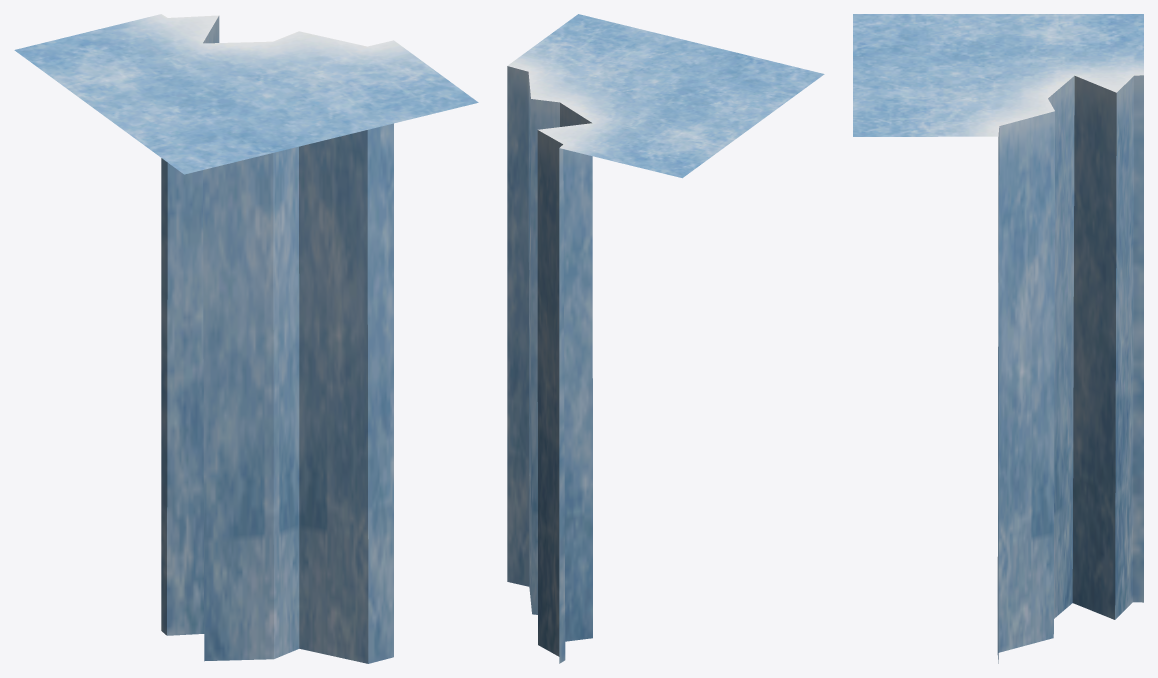
File: Ice_Corner_InnerB.fbx
3 views of the same model, side by side, from view 1: azimuth 30°, elevation 25°; view 2: azimuth 150°, elevation 25°; view 3: azimuth 270°, elevation 25° (orthographic). The views are drawn at different scales.
Parts seen in each view (by area): view 1: Ice_Corner_InnerB; view 2: Ice_Corner_InnerB; view 3: Ice_Corner_InnerB.
Part boxes in pixels (<box>): Ice_Corner_InnerB: <box>14,14,478,663</box>; Ice_Corner_InnerB: <box>507,14,824,663</box>; Ice_Corner_InnerB: <box>853,14,1143,663</box>.
Size of the model in its own units: 1.2 by 2.4 by 1.2.
